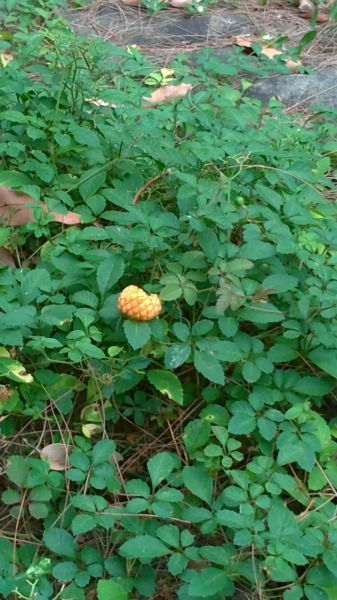eggs: (112, 282, 169, 324)
